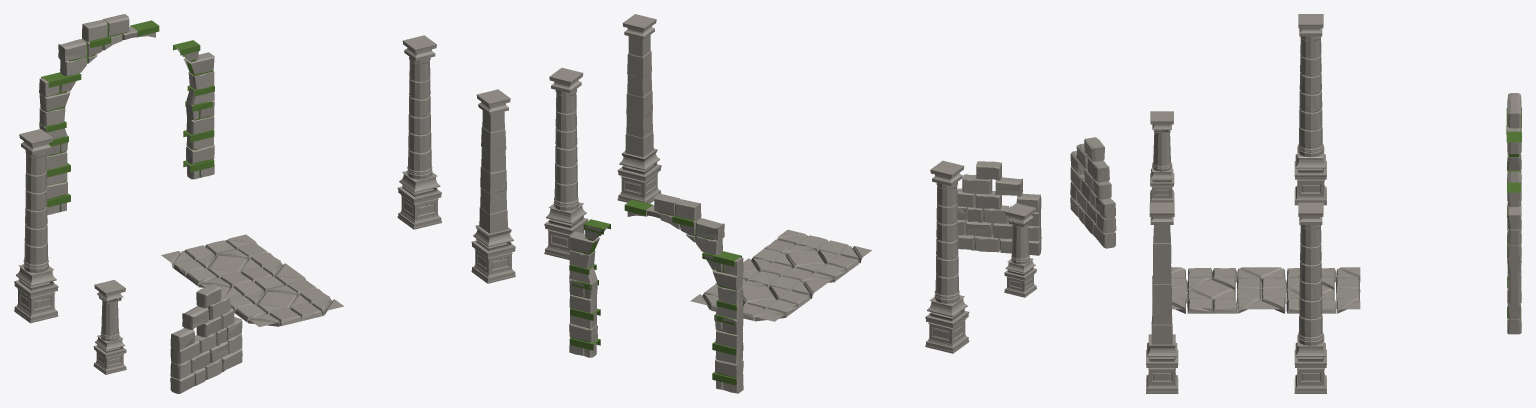
The model's file is ruins.obj.
The picture shows the model from 3 angles, left to right: view 1: azimuth 30°, elevation 25°; view 2: azimuth 150°, elevation 25°; view 3: azimuth 270°, elevation 25°; orthographic projection.
Bounding box in the file's own units: 9.66 × 3.99 × 9.11.
